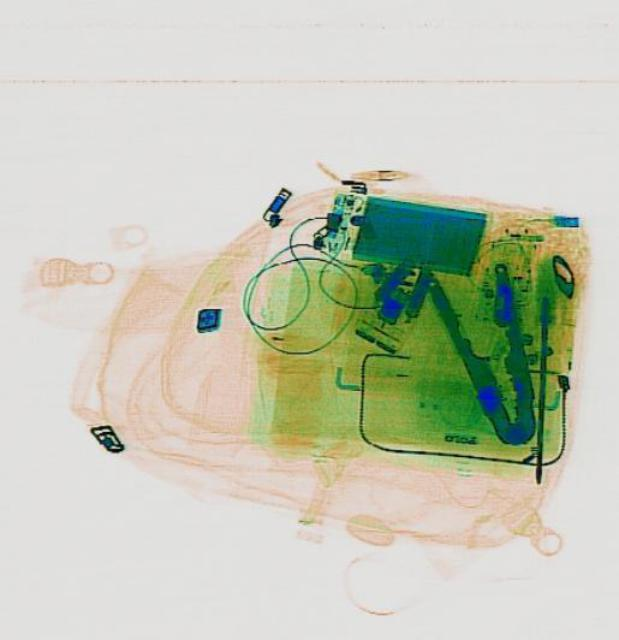Pliers: (422, 254, 569, 454)
